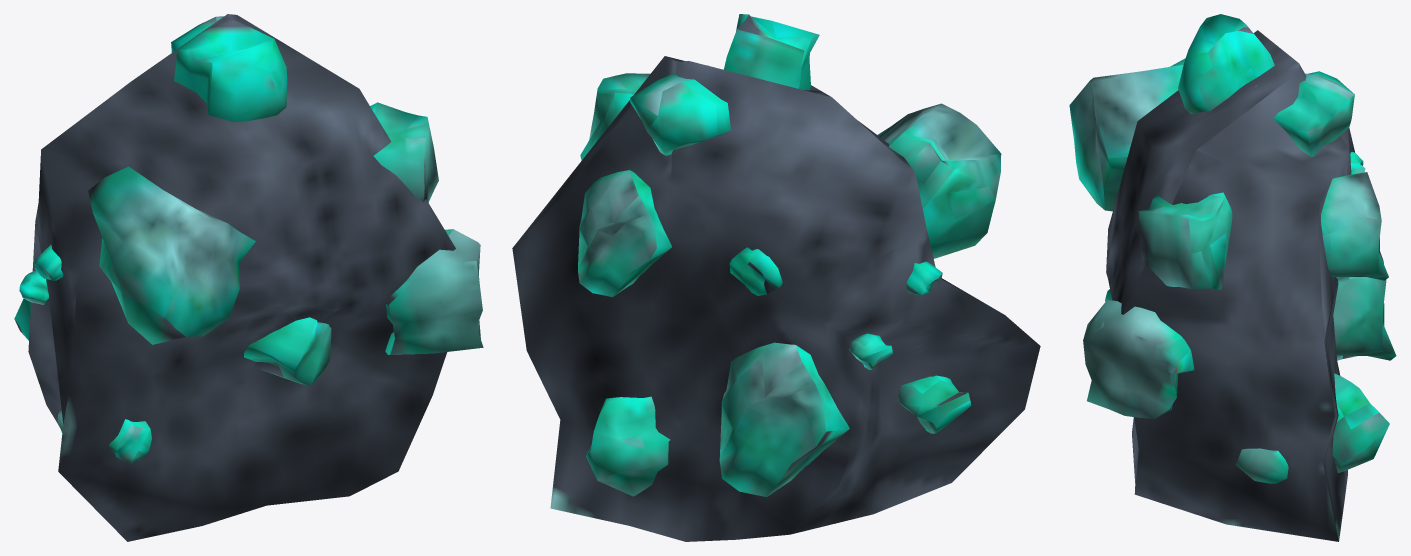
Rendered from TurmalinaMinerio.fbx.
3 renders of one model, left to right at view 1: azimuth 30°, elevation 25°; view 2: azimuth 150°, elevation 25°; view 3: azimuth 270°, elevation 25°, orthographic. The views are drawn at different scales.
Visible parts, largest first — view 1: MinerioTurmalinaPedras; view 2: MinerioTurmalinaPedras; view 3: MinerioTurmalinaPedras.
Part boxes in pixels (box(x1,y1,x2,y2)): MinerioTurmalinaPedras: box(14, 14, 483, 541); MinerioTurmalinaPedras: box(512, 14, 1040, 541); MinerioTurmalinaPedras: box(1069, 14, 1396, 541).
Size of the model in its own units: 607 by 631 by 418.
